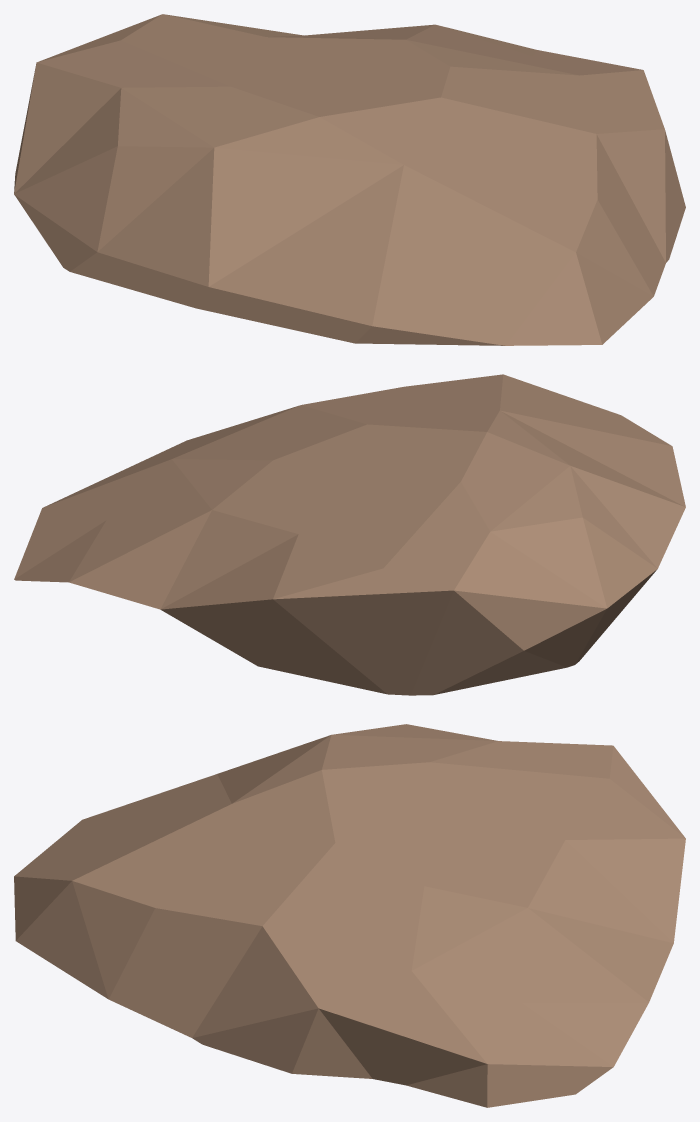
Rendered from Medium_Rocks_004.fbx.
3 renders of one model, top to bottom at view 1: azimuth 30°, elevation 25°; view 2: azimuth 150°, elevation 25°; view 3: azimuth 270°, elevation 25°, orthographic. The views are drawn at different scales.
Parts seen in each view (by area): view 1: Medium Rocks.004; view 2: Medium Rocks.004; view 3: Medium Rocks.004.
Boxes of the visible parts, x1,y1,x2,y2 form: Medium Rocks.004: (14,14,685,345); Medium Rocks.004: (14,374,685,695); Medium Rocks.004: (14,724,685,1107).
Size of the model in its own units: 26.69 by 6.48 by 26.38.
